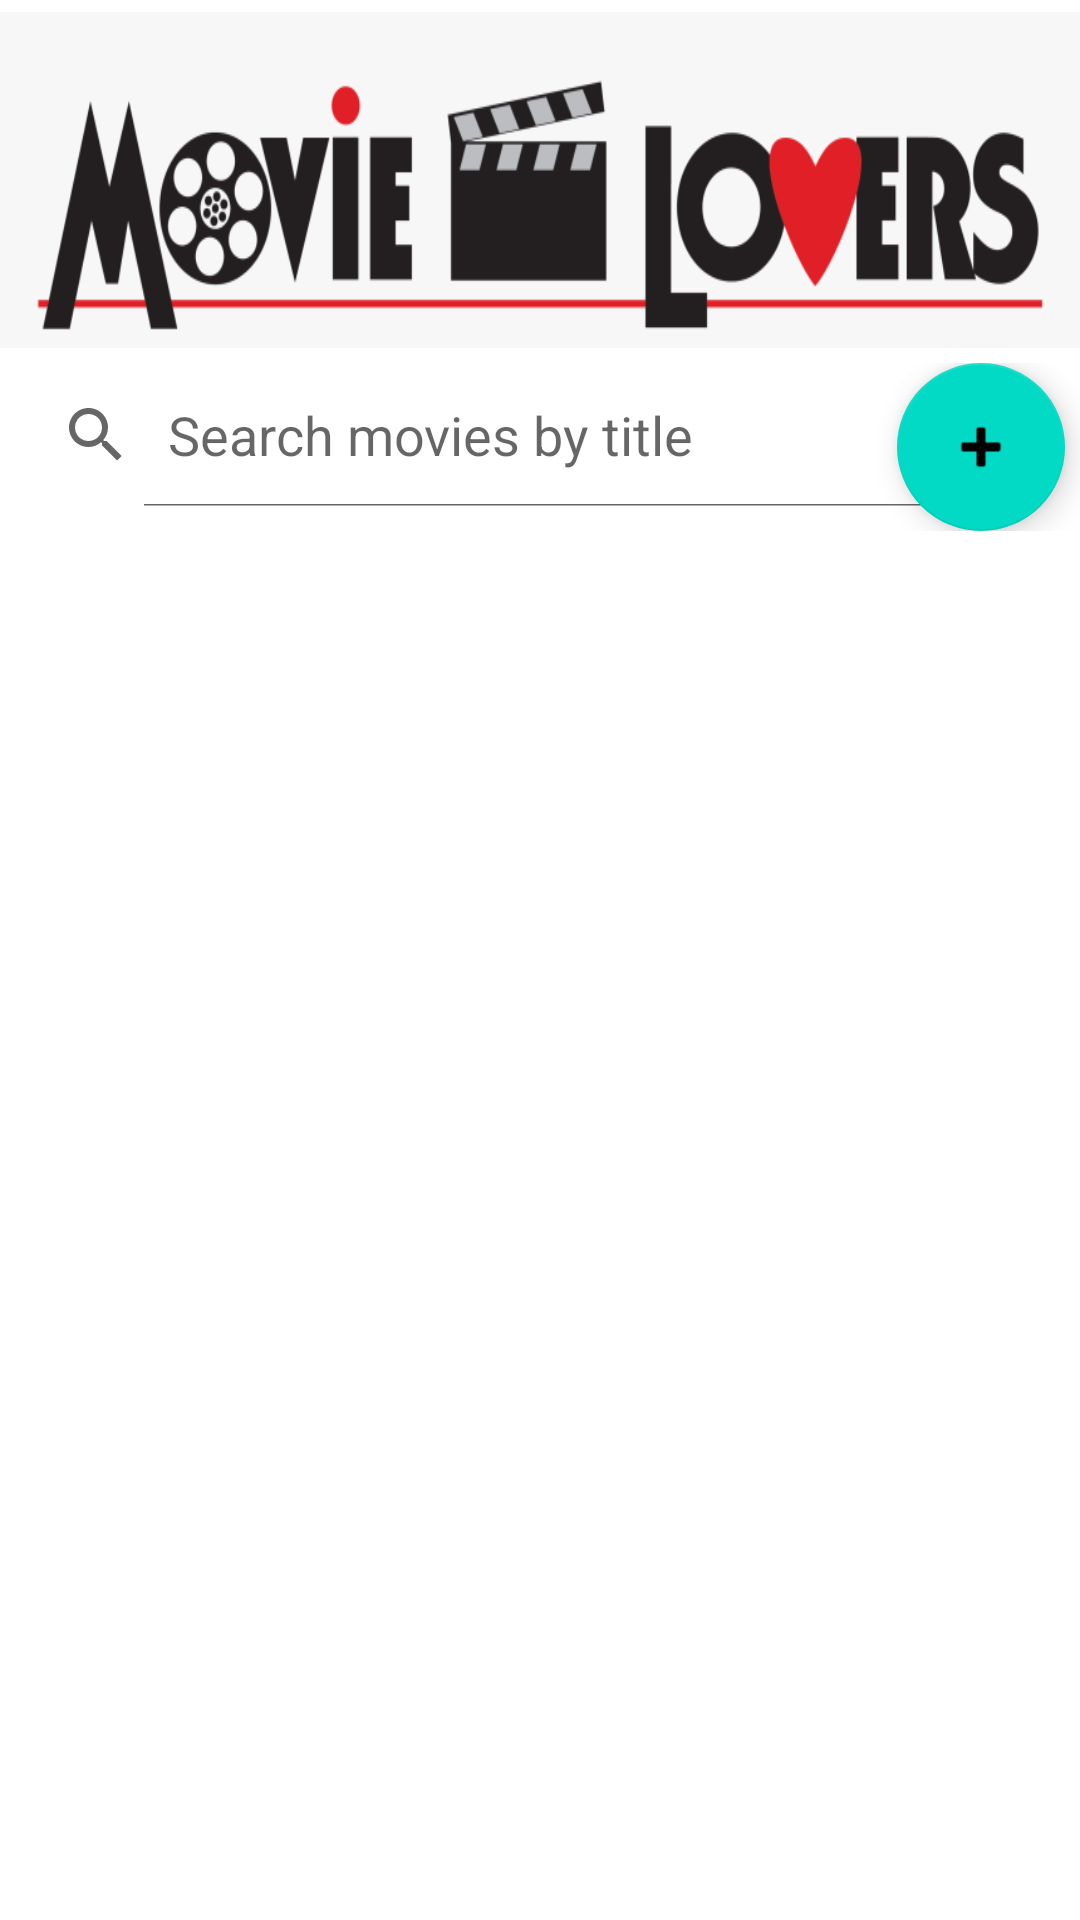

Where to tap for icons on this 1080×1920 app screen, as (x,y):
add: (981,447)
